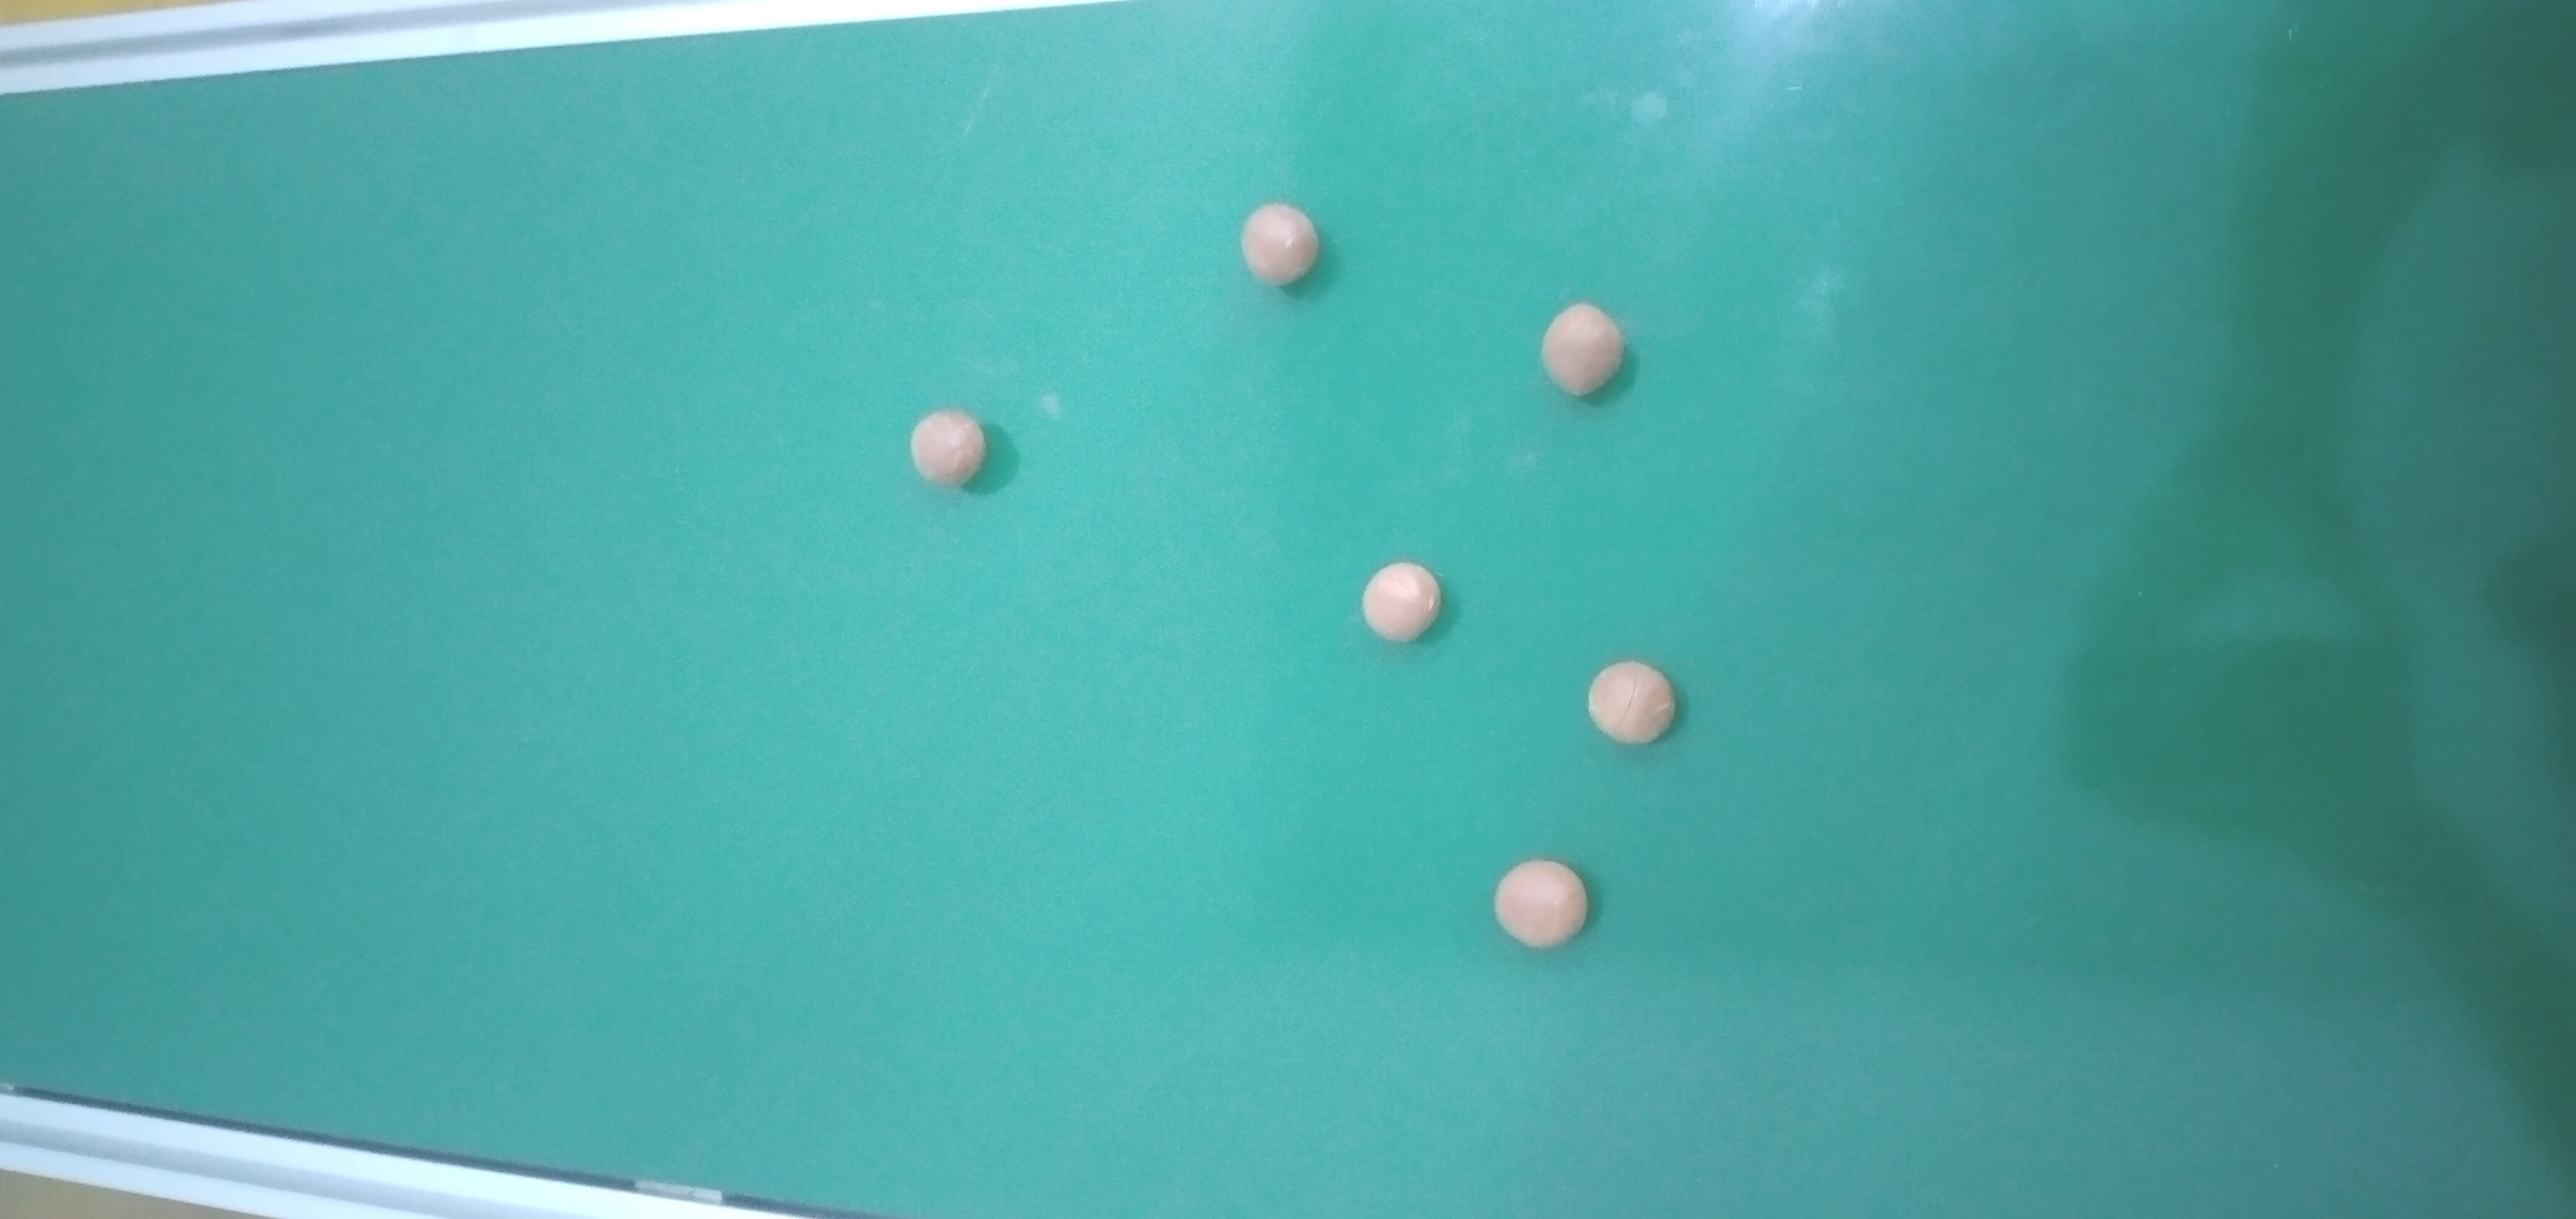mac: (951, 291, 1043, 396), (977, 848, 1074, 943), (899, 649, 982, 738), (1132, 557, 1216, 641), (1265, 207, 1342, 289), (1590, 419, 1669, 494)
